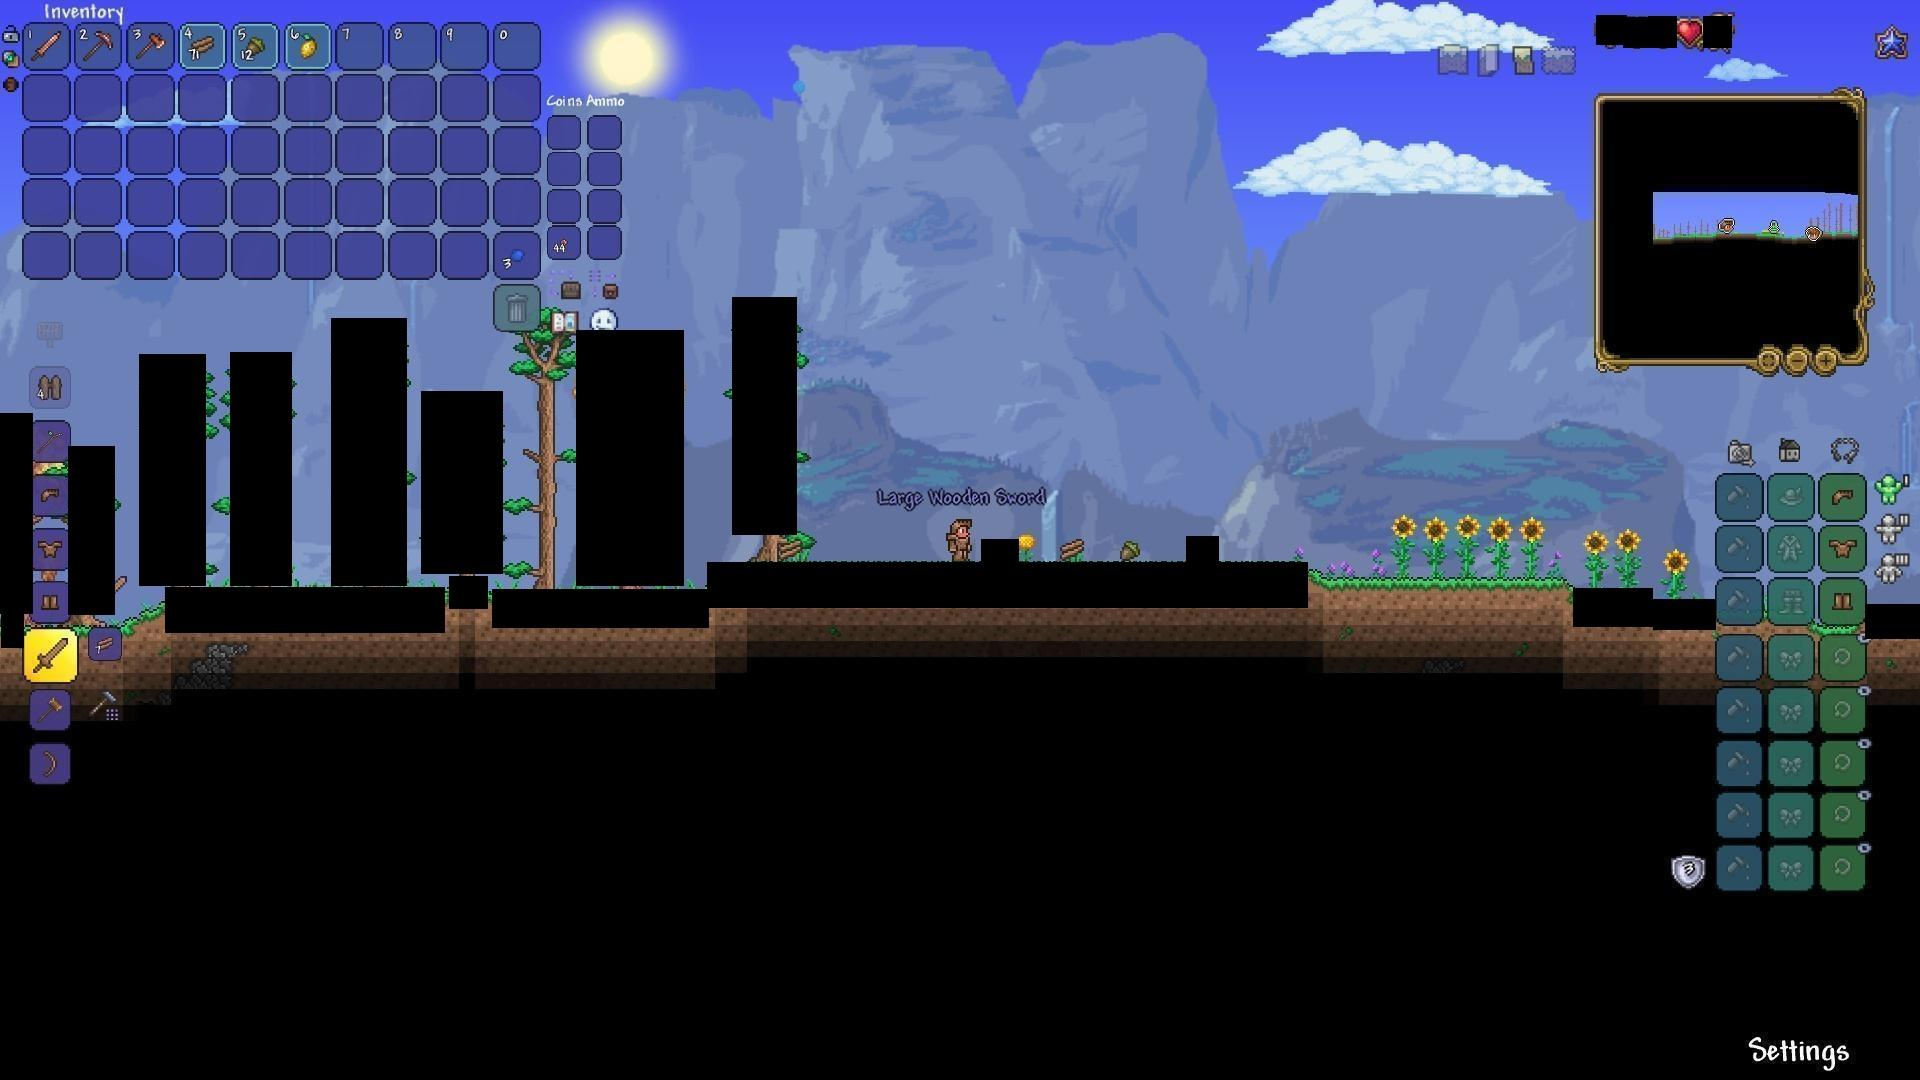breastplate: (36, 538, 65, 559), (1830, 535, 1859, 556)
dirt: (1311, 570, 1575, 628)
heart: (1676, 17, 1704, 47)
helmet: (34, 483, 65, 510), (1828, 483, 1858, 509)
legs: (40, 587, 65, 616), (1832, 585, 1855, 615)
tree: (512, 327, 576, 585)
wood: (1059, 535, 1091, 566), (775, 535, 807, 566), (91, 629, 123, 659), (187, 29, 219, 59)
